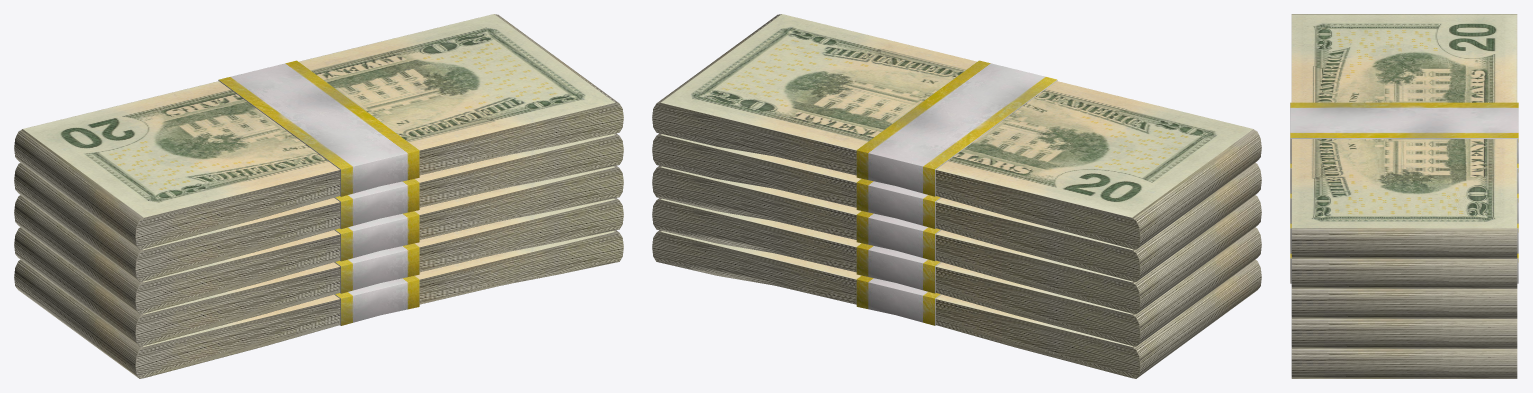
The picture shows the model from 3 angles, left to right: view 1: azimuth 30°, elevation 25°; view 2: azimuth 150°, elevation 25°; view 3: azimuth 270°, elevation 25°; orthographic projection. The views are drawn at different scales.
Parts seen in each view (by area): view 1: stacks of money; view 2: stacks of money; view 3: stacks of money.
Boxes of the visible parts, x1,y1,x2,y2 form: stacks of money: [14, 14, 623, 378]; stacks of money: [652, 14, 1261, 378]; stacks of money: [1290, 14, 1518, 378].
Size of the model in its own units: 2.64 by 0.8344 by 1.15.
1 material, 1 textured.
